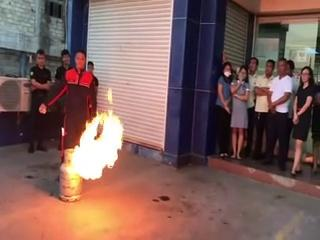Fire: (64, 112, 130, 179)
